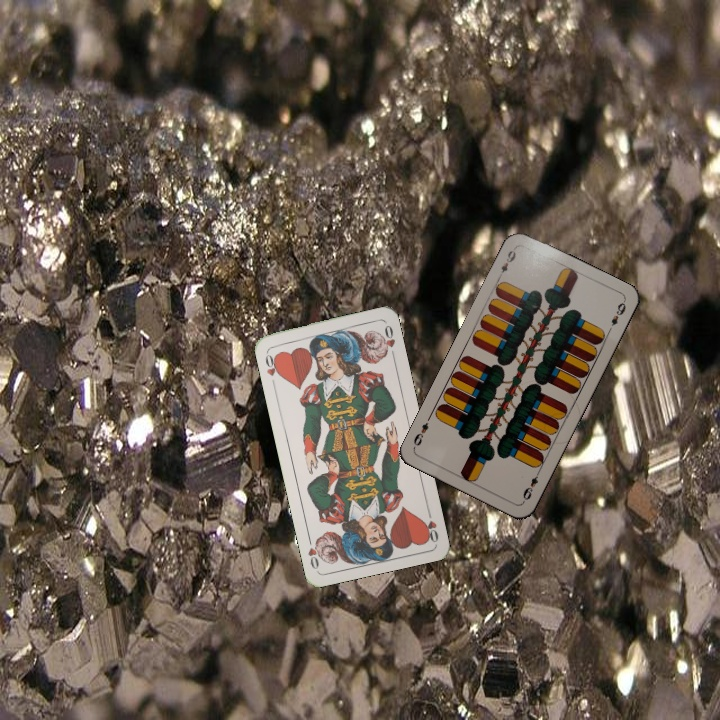E9: (494, 244, 519, 281), (519, 467, 543, 504)
HO: (261, 347, 283, 388), (420, 504, 441, 545)
